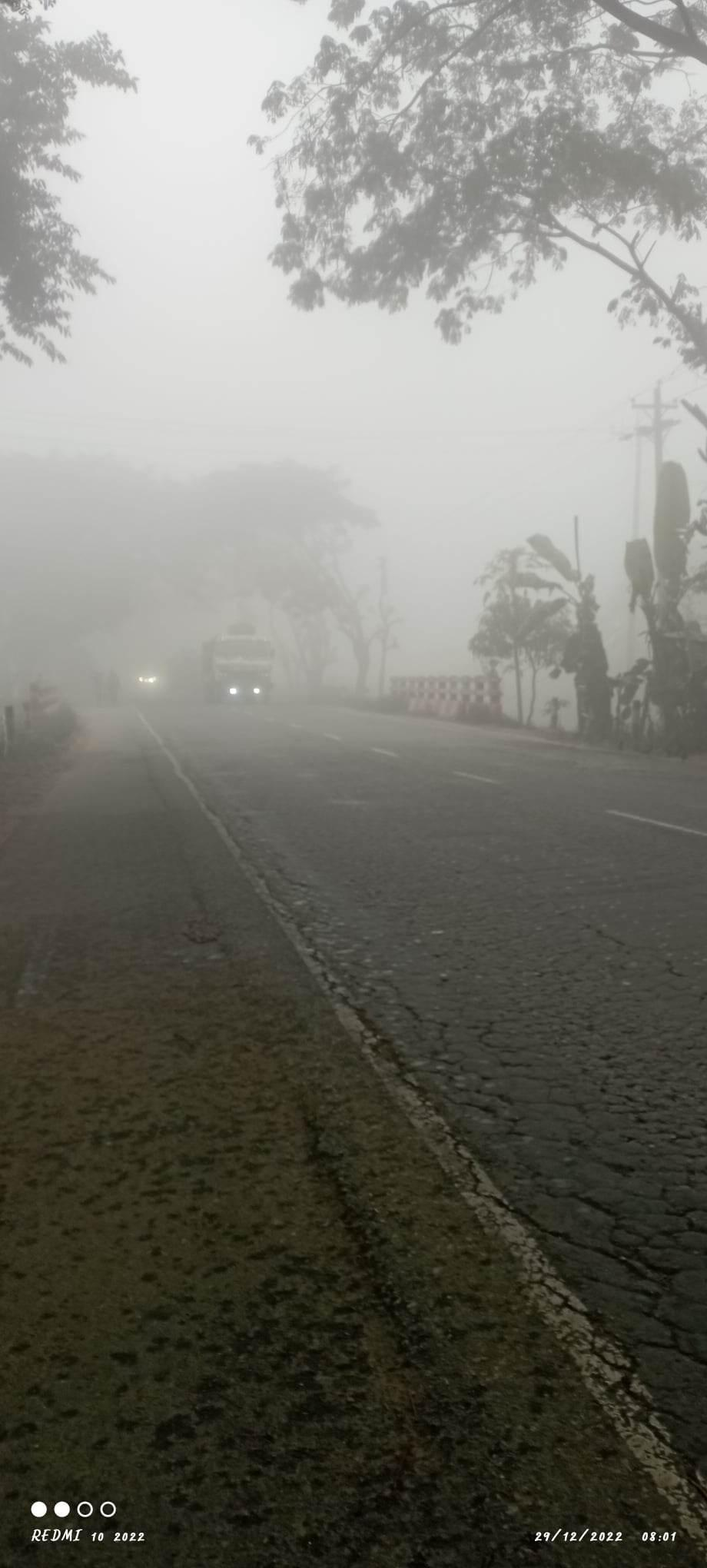Truck: (193, 607, 299, 725)
